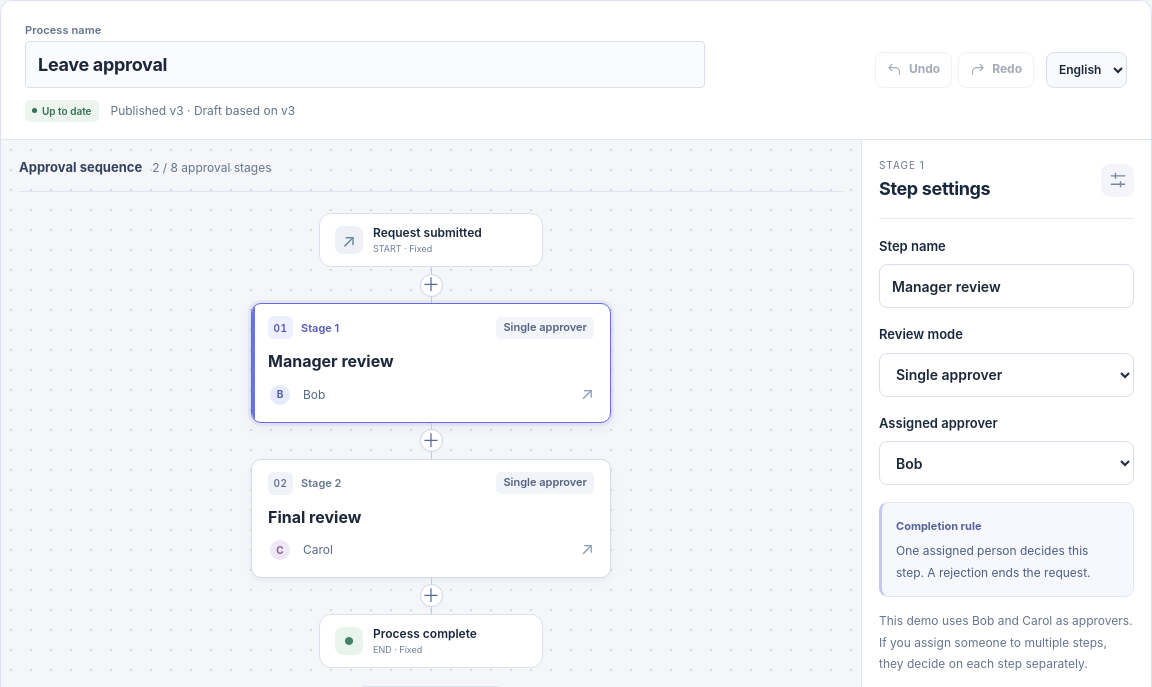
focused designer workbench › shows compact nodes and exactly one selected-stage inspector
The width and height of the screenshot is (1152, 687).
Click the button with test id "select-step" that starts with "Stage 2" at (321, 483), box [251,459,611,578]
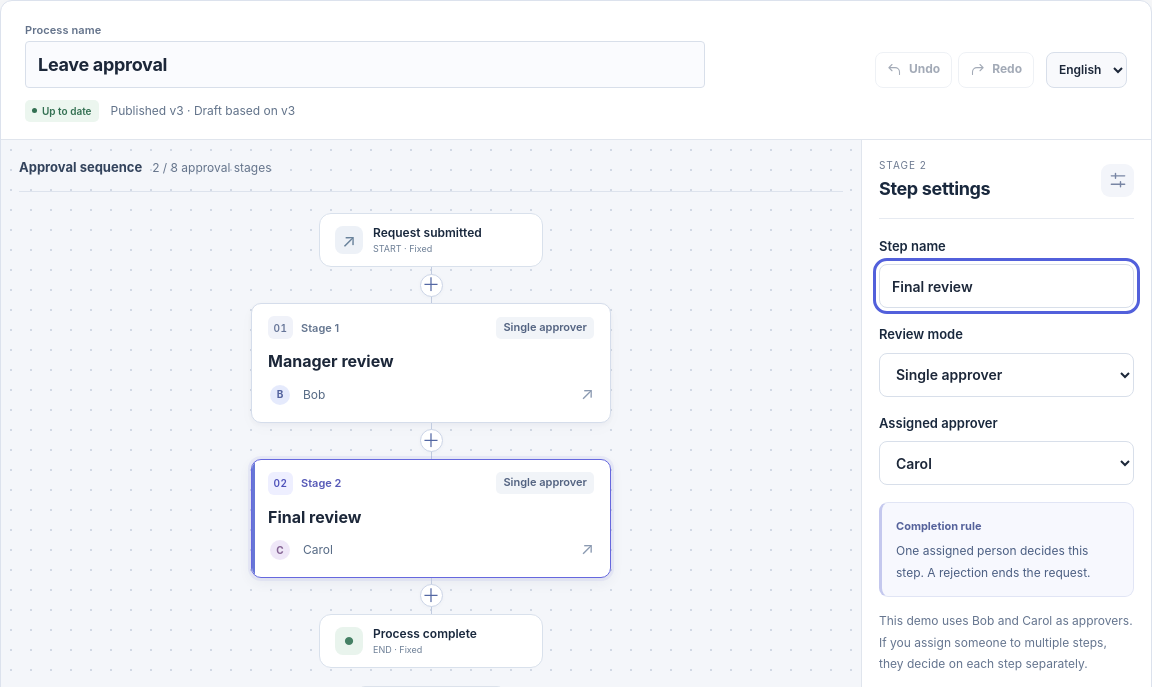
expect the field named "Step 2 name" holds "Final review": met, box [879,264,1134,308]
